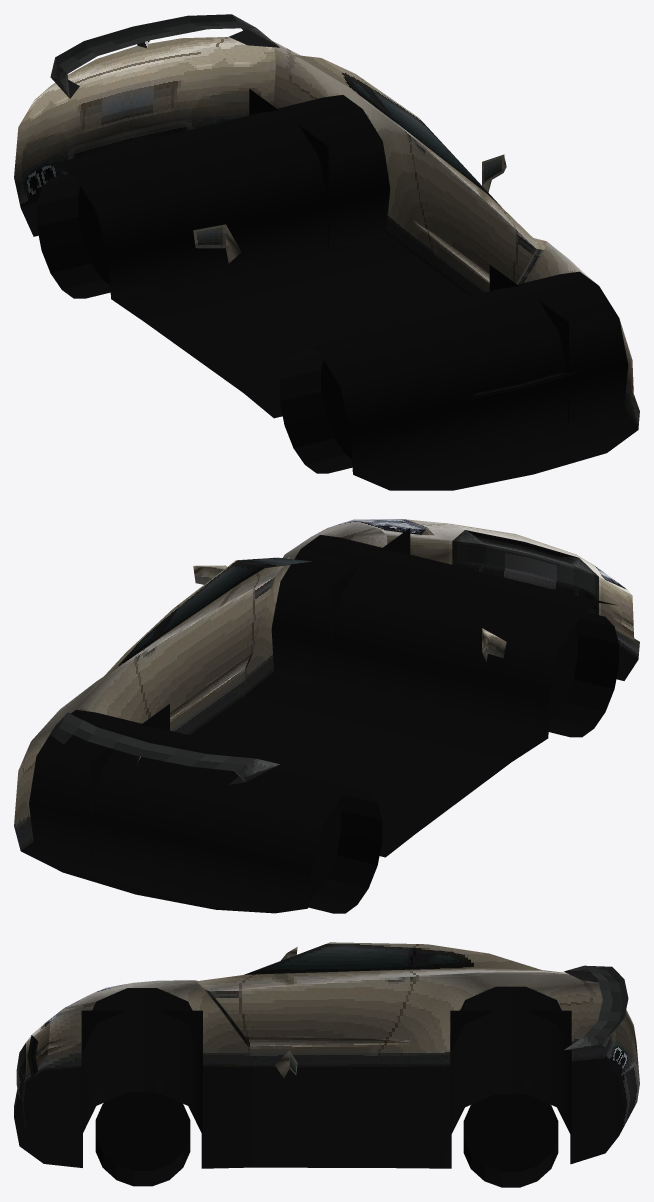
Rendered from gtr.glb.
The picture shows the model from 3 angles, top to bottom: view 1: azimuth 30°, elevation 25°; view 2: azimuth 150°, elevation 25°; view 3: azimuth 270°, elevation 25°; orthographic projection. The views are drawn at different scales.
Parts seen in each view (by area): view 1: Body, Wheel_FR, Wheel_RR; view 2: Body, Wheel_RR, Wheel_FR; view 3: Body, Wheel_FL, Wheel_RL.
Part boxes in pixels (x1,y1,x2,y2): Body: [14, 14, 639, 490]; Wheel_FR: [280, 348, 352, 473]; Wheel_RR: [37, 173, 110, 298]; Body: [14, 519, 639, 913]; Wheel_RR: [308, 788, 382, 913]; Wheel_FR: [548, 612, 618, 737]; Body: [14, 942, 639, 1168]; Wheel_FL: [95, 1092, 190, 1186]; Wheel_RL: [463, 1094, 558, 1187].
Bounding box in the file's own units: 2.07 × 1.38 × 4.71.
1 material, 1 textured.
